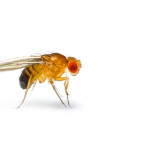phorid fly: (1, 37, 90, 115)
